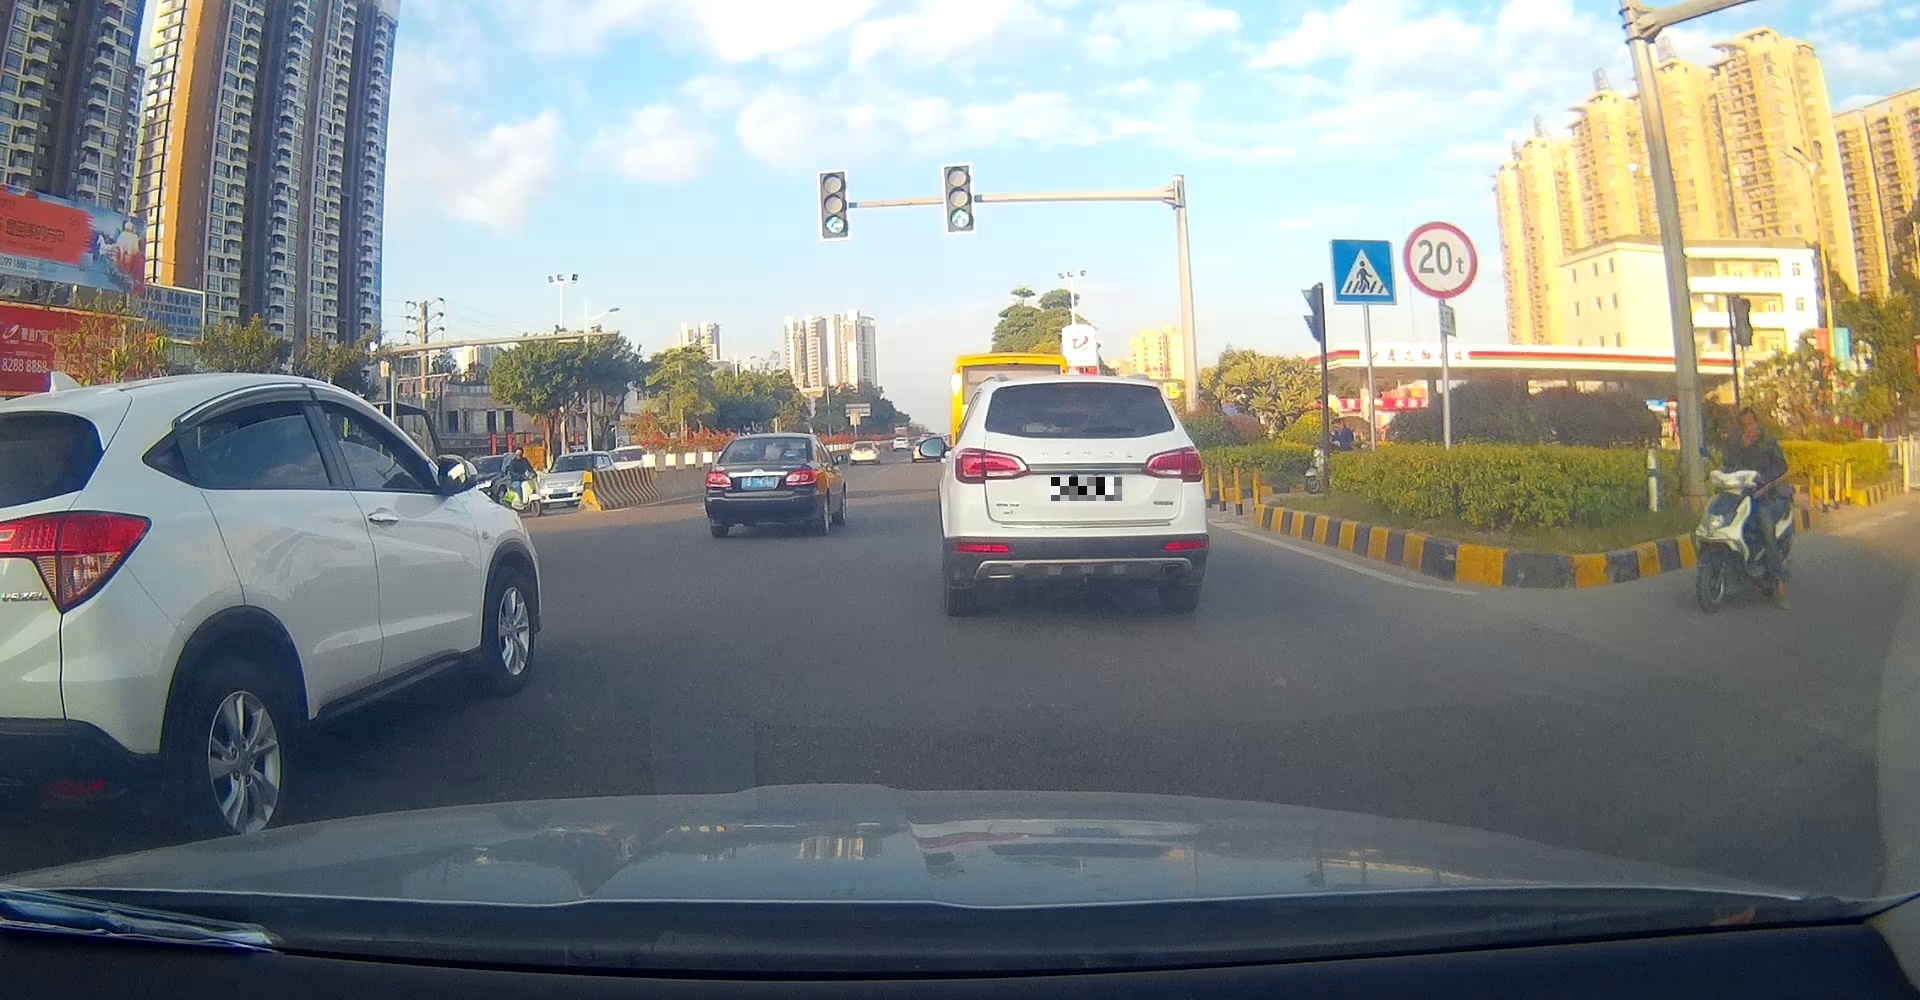L_light: (955, 447, 1032, 484), (706, 471, 731, 487)
R_light: (1142, 445, 1204, 482), (783, 470, 817, 486)
T_light: (1057, 382, 1111, 388), (754, 459, 770, 462)
day-no: (943, 374, 1209, 618), (703, 431, 822, 538)
plate_1: (1051, 477, 1123, 501)
